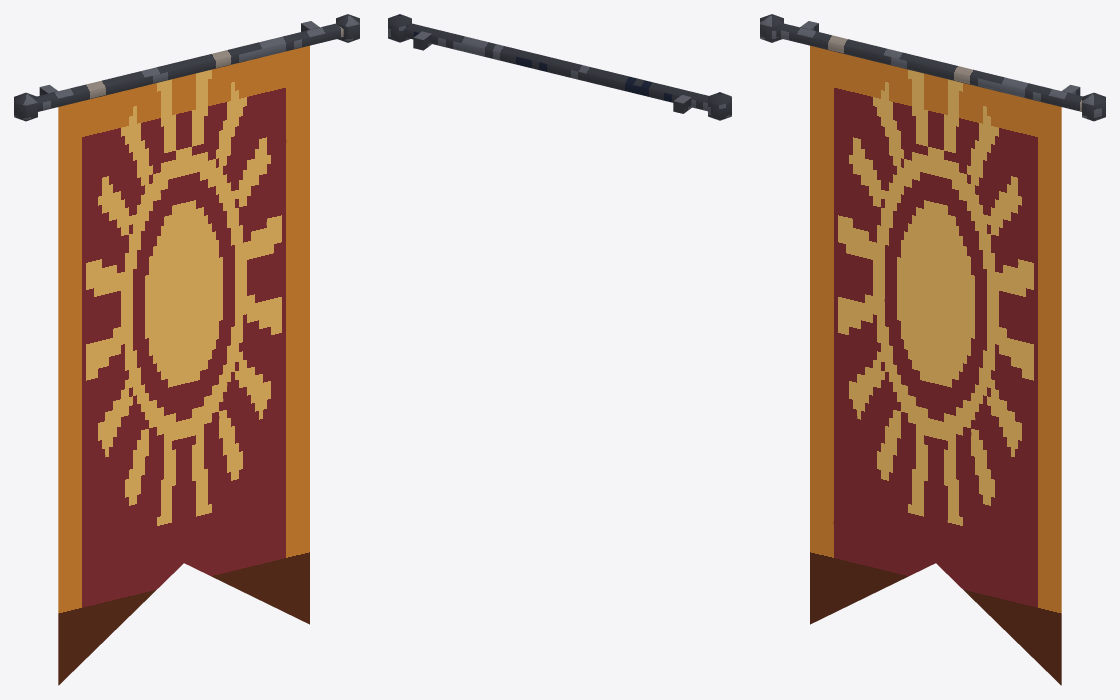
File: dprop.banner.glb
3 views of the same model, side by side, from view 1: azimuth 30°, elevation 25°; view 2: azimuth 150°, elevation 25°; view 3: azimuth 330°, elevation 25° (orthographic).
Parts seen in each view (by area): view 1: kit_card_cloth, kit_rod; view 2: kit_rod; view 3: kit_card_cloth, kit_rod.
Part boxes in pixels (x1=…): kit_card_cloth: x1=58, y1=45, x2=309, y2=685; kit_rod: x1=14, y1=14, x2=359, y2=121; kit_rod: x1=388, y1=14, x2=731, y2=120; kit_card_cloth: x1=810, y1=45, x2=1061, y2=685; kit_rod: x1=760, y1=14, x2=1105, y2=121.
Size of the model in its own units: 1.38 by 2.29 by 0.1213.
Materials: 2 (2 with a texture image).
